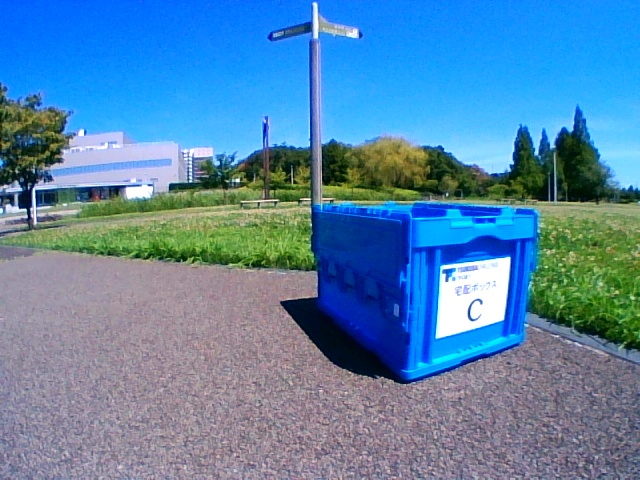blue_box: (313, 206, 523, 343)
tag_c: (443, 270, 497, 323)
